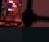altar: (0, 0, 22, 27)
